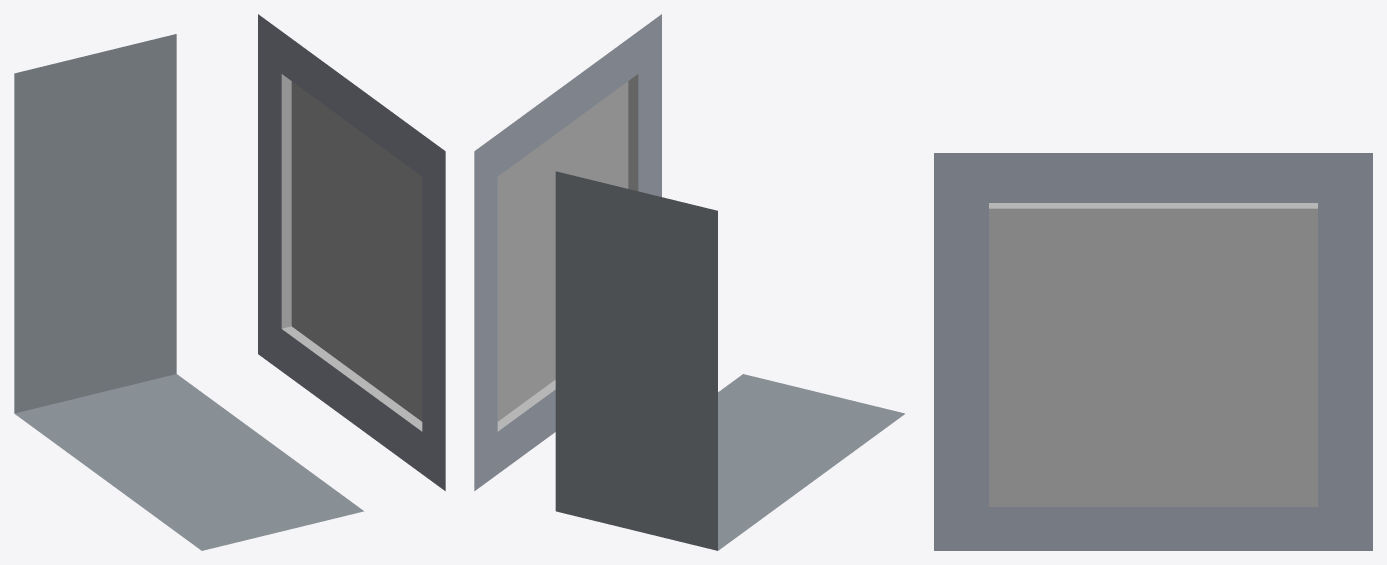
Rendered from cell_316.obj.
3 renders of one model, left to right at view 1: azimuth 30°, elevation 25°; view 2: azimuth 150°, elevation 25°; view 3: azimuth 270°, elevation 25°, orthographic. The views are drawn at different scales.
Size of the model in its own units: 0.7812 by 1 by 1.
